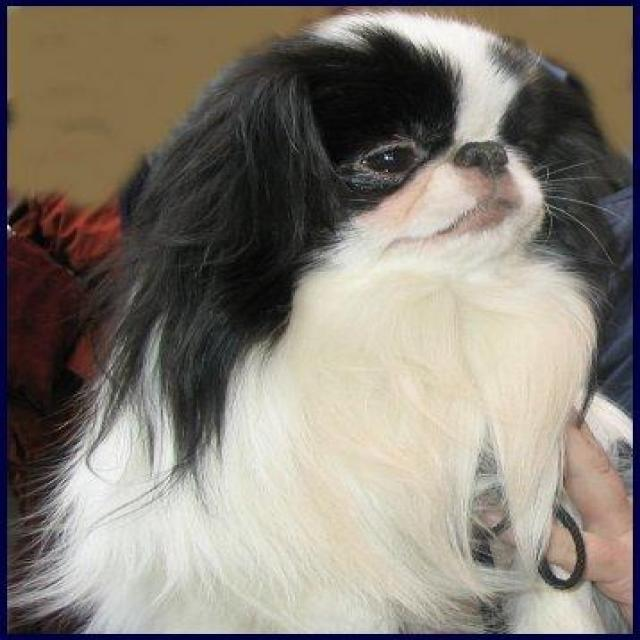husky: (5, 6, 635, 637)
